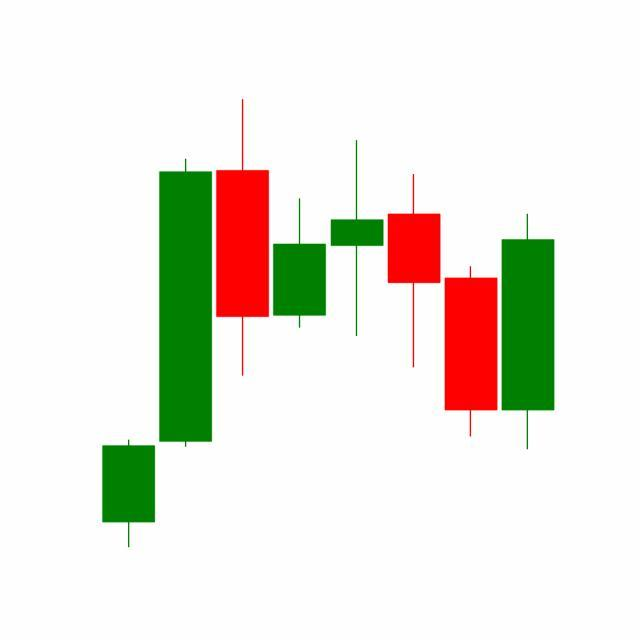Three Outside Up-Down: (328, 138, 500, 441)
